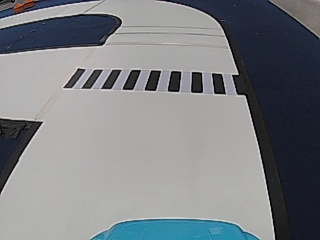CrossWalk: (65, 67, 241, 96)
